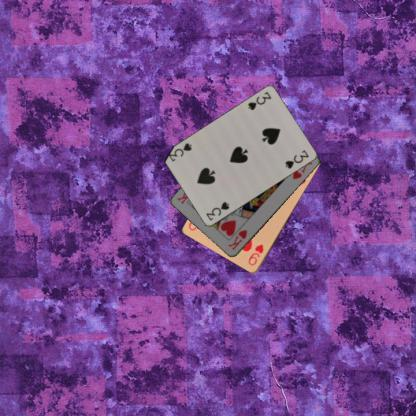3s: (204, 199, 231, 222), (245, 89, 273, 111)
9h: (246, 241, 264, 267)
Kh: (225, 228, 249, 252)
